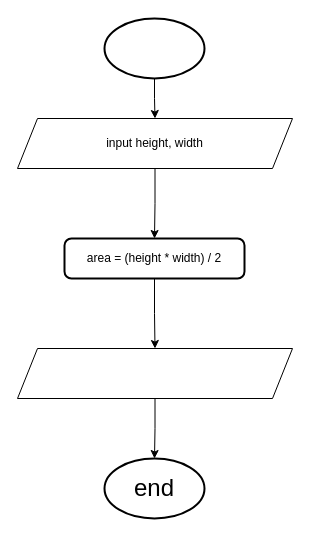
The diagram is 310 pixels wide and 536 high, and some of its shapes have lost their labels. Here are the shapes that lost their labels. From the top down, the centre of each, then its label:
point (154, 48): start
point (154, 373): output "Triangle Area : ", area
